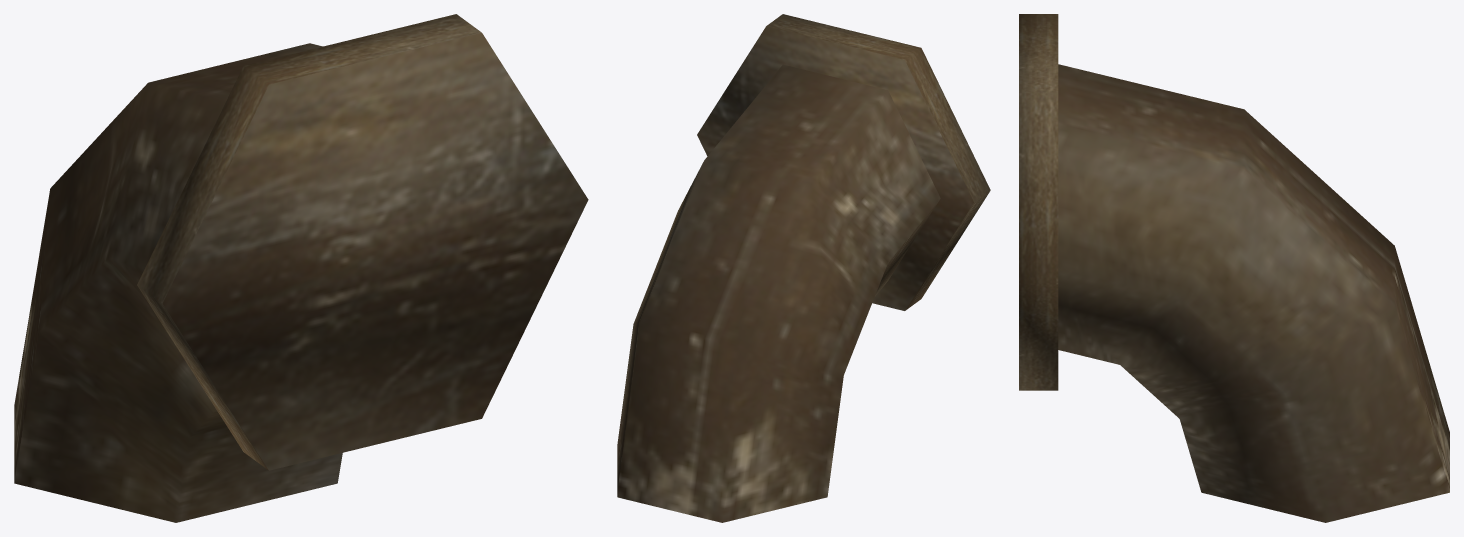
File: small_brown_2_elbow.fbx
The picture shows the model from 3 angles, left to right: view 1: azimuth 30°, elevation 25°; view 2: azimuth 150°, elevation 25°; view 3: azimuth 270°, elevation 25°; orthographic projection. The views are drawn at different scales.
Visible parts, largest first — view 1: polySurface666; view 2: polySurface666; view 3: polySurface666.
Part boxes in pixels (left/top/right/bottom): polySurface666: left=14, top=14, right=588, bottom=522; polySurface666: left=617, top=14, right=990, bottom=522; polySurface666: left=1019, top=14, right=1449, bottom=522.
Size of the model in its own units: 0.3294 by 0.3926 by 0.3754.
